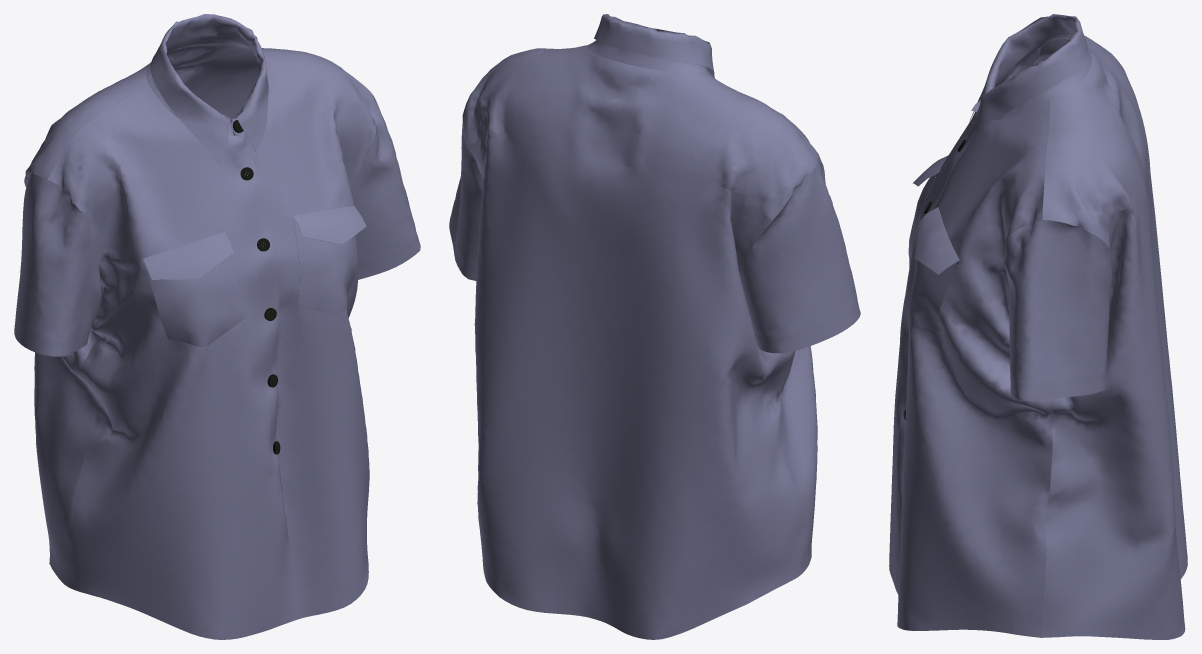
3 views of the same model, side by side, from view 1: azimuth 30°, elevation 25°; view 2: azimuth 150°, elevation 25°; view 3: azimuth 270°, elevation 25° (orthographic). The views are drawn at different scales.
Visible parts, largest first — view 1: Pattern2D_5340174, Pattern2D_5340173, 31, Pattern2D_3547521, Pattern2D_3634183, Pattern2D_119045, 9, Pattern2D_5340176, Pattern2D_5340175, Pattern2D_5340178, Pattern2D_5340177; view 2: Pattern2D_3547521, Pattern2D_119045, 31, Pattern2D_5340174, Pattern2D_3634183, 9; view 3: Pattern2D_5340173, Pattern2D_3547521, 9, Pattern2D_119045, Pattern2D_3634183, Pattern2D_5340174, Pattern2D_5340175, Pattern2D_5340177, Pattern2D_5340176.
Boxes of the visible parts, box(x1,y1,x2,y2) form: Pattern2D_5340174: box(47, 84, 300, 639); Pattern2D_5340173: box(238, 58, 376, 624); 31: box(14, 173, 101, 356); Pattern2D_3547521: box(34, 90, 251, 587); Pattern2D_3634183: box(145, 14, 268, 164); Pattern2D_119045: box(24, 43, 361, 179); 9: box(352, 96, 420, 279); Pattern2D_5340176: box(145, 255, 245, 346); Pattern2D_5340175: box(294, 222, 357, 315); Pattern2D_5340178: box(143, 232, 233, 279); Pattern2D_5340177: box(292, 206, 366, 244); Pattern2D_3547521: box(468, 132, 802, 639); Pattern2D_119045: box(462, 45, 817, 220); 31: box(740, 162, 860, 353); Pattern2D_5340174: box(706, 73, 822, 573); Pattern2D_3634183: box(587, 14, 714, 77); 9: box(449, 118, 483, 280); Pattern2D_5340173: box(897, 98, 1052, 637); Pattern2D_3547521: box(1041, 110, 1187, 639); 9: box(1004, 220, 1112, 400); Pattern2D_119045: box(1039, 35, 1140, 249); Pattern2D_3634183: box(969, 14, 1091, 137); Pattern2D_5340174: box(889, 45, 1043, 594); Pattern2D_5340175: box(909, 259, 957, 331); Pattern2D_5340177: box(915, 207, 959, 274); Pattern2D_5340176: box(908, 174, 935, 257).
Bounding box in the file's own units: 52.68 × 70.48 × 33.06.
